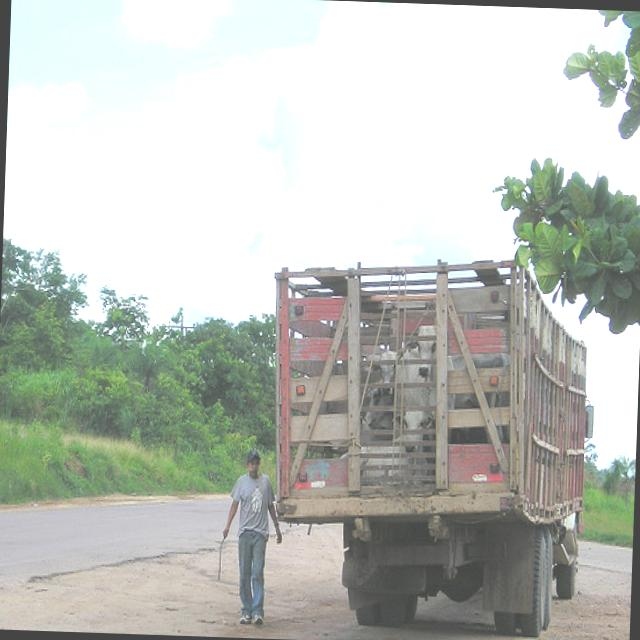Vehicle: (261, 249, 600, 640)
